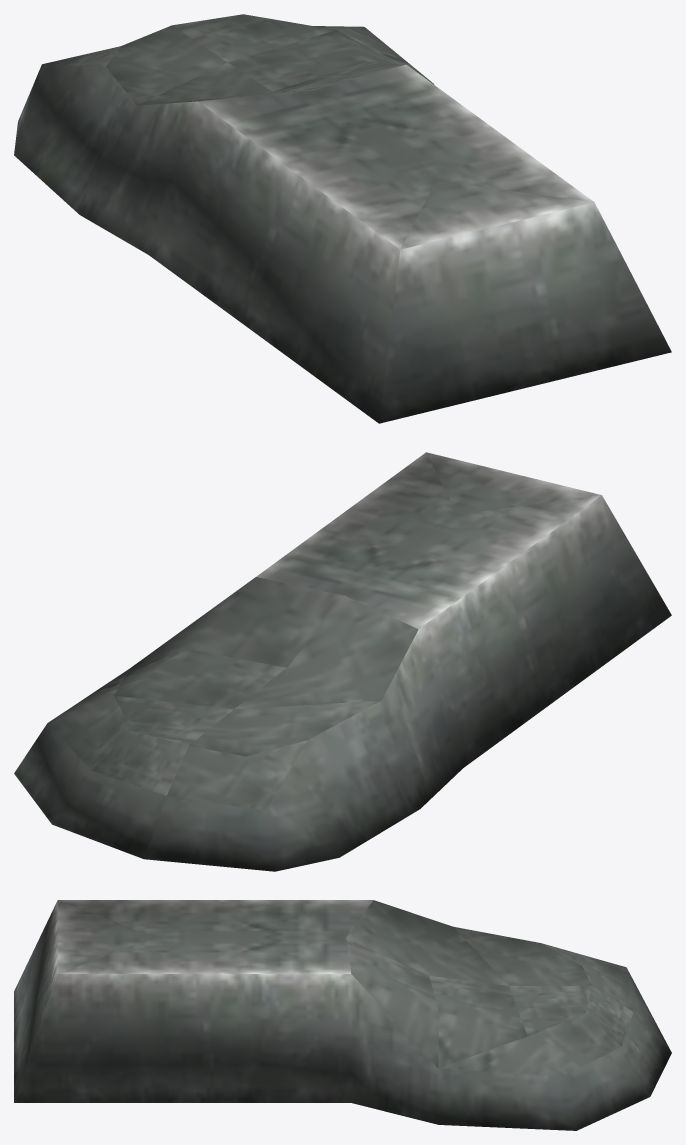
The model's file is KM_VOB_IRON_BAR_01.glb.
3 views of the same model, one above another, from view 1: azimuth 30°, elevation 25°; view 2: azimuth 150°, elevation 25°; view 3: azimuth 270°, elevation 25° (orthographic). The views are drawn at different scales.
Visible parts, largest first — view 1: Mesh; view 2: Mesh; view 3: Mesh.
Boxes of the visible parts, x1,y1,x2,y2 form: Mesh: (14,14,671,423); Mesh: (14,452,671,871); Mesh: (14,900,671,1130).
Bounding box in the file's own units: 0.241 × 0.0864 × 0.467.
Materials: 1 (1 with a texture image).
